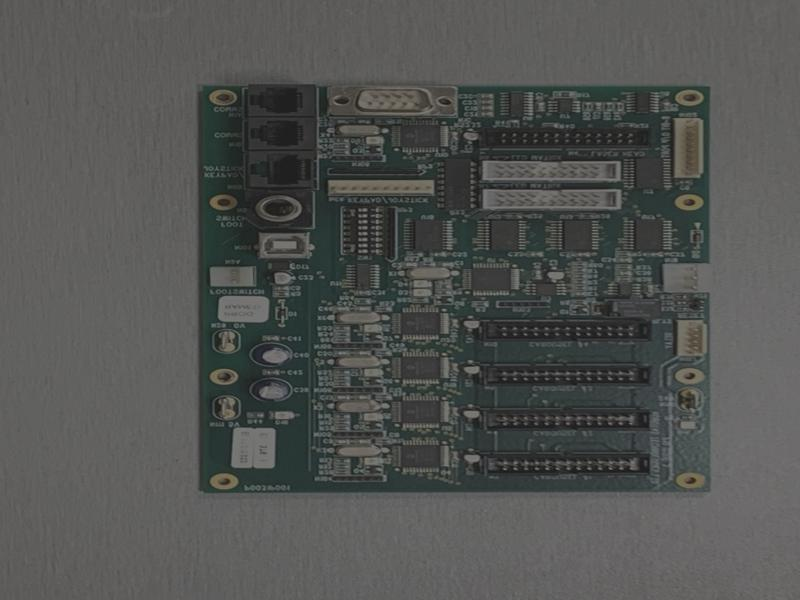Capacitor: (251, 343, 292, 368), (251, 378, 292, 403)
Diode: (691, 229, 702, 246), (277, 306, 288, 323)
